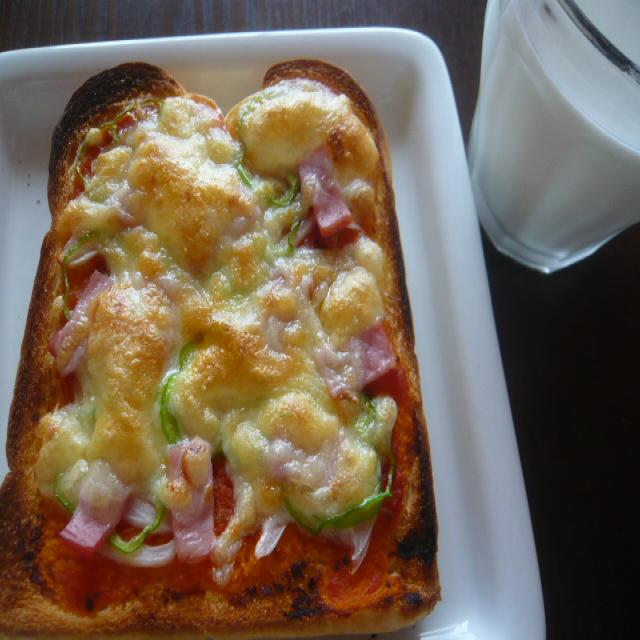面包点心: (4, 38, 504, 622)
